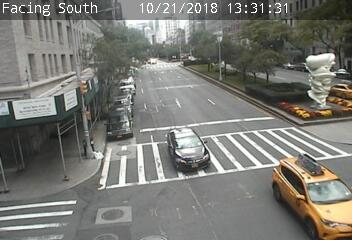car: (273, 155, 352, 238), (167, 127, 208, 170)
